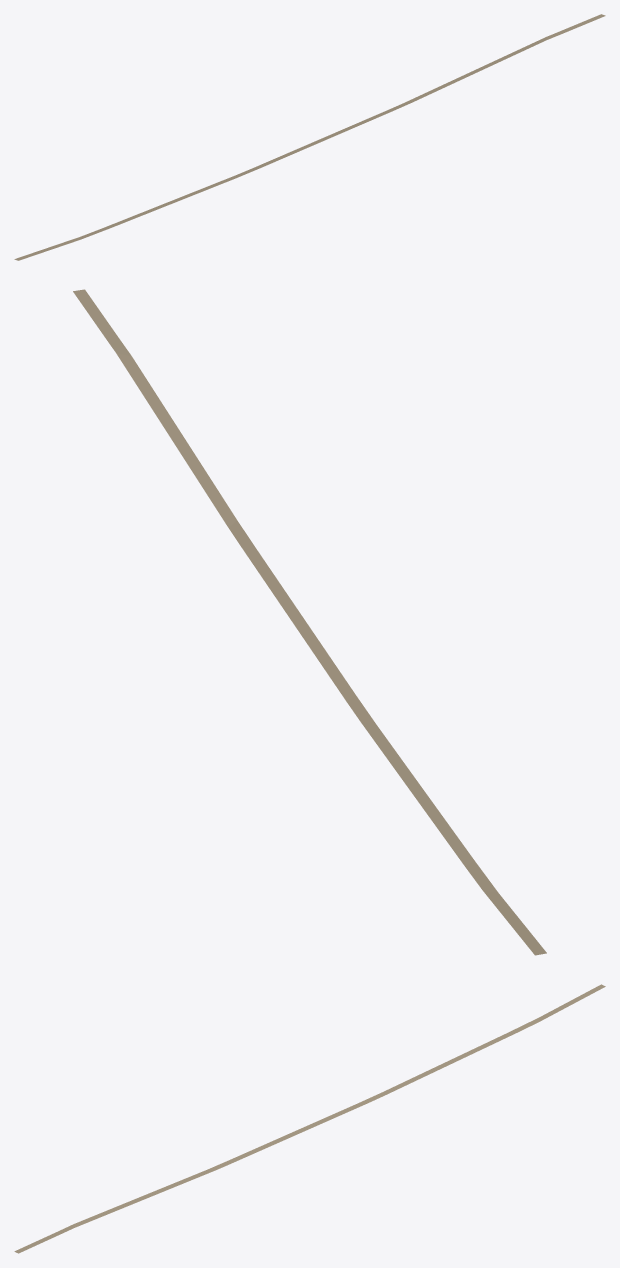
Rendered from farm_-5_-7_track.glb.
The picture shows the model from 3 angles, top to bottom: view 1: azimuth 90°, elevation 25°; view 2: azimuth 150°, elevation 25°; view 3: azimuth 270°, elevation 25°; orthographic projection. The views are drawn at different scales.
Visible parts, largest first — view 1: geometry_0; view 2: geometry_0; view 3: geometry_0.
Part boxes in pixels (bbox=[...]): geometry_0: bbox=[14, 14, 605, 260]; geometry_0: bbox=[73, 289, 546, 955]; geometry_0: bbox=[14, 984, 605, 1253].
Size of the model in its own units: 315 by 8.02 by 305.
